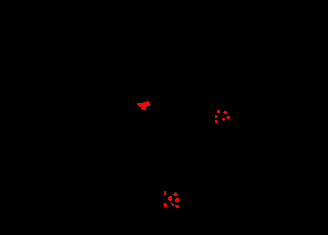Target: (137, 101, 150, 110), (168, 196, 172, 201), (175, 198, 179, 203), (173, 192, 177, 196), (163, 203, 167, 207), (223, 111, 227, 114), (226, 116, 230, 119), (164, 191, 167, 195), (175, 205, 179, 208), (217, 110, 220, 113), (215, 115, 218, 118), (222, 118, 225, 121), (215, 120, 218, 123), (171, 203, 174, 206)
